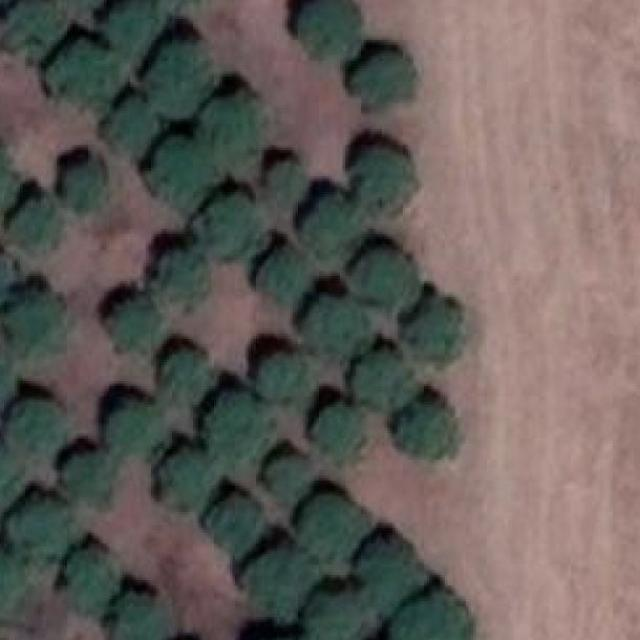Tree: (0, 284, 69, 363), (144, 24, 210, 106), (350, 526, 421, 601), (50, 45, 119, 117), (296, 491, 368, 557), (354, 43, 419, 114), (356, 344, 420, 414), (202, 389, 270, 453), (352, 148, 414, 218), (291, 0, 362, 60), (54, 546, 116, 614), (146, 148, 212, 211), (209, 100, 273, 164), (98, 394, 162, 458), (393, 392, 454, 458), (251, 250, 315, 312), (298, 302, 360, 366), (392, 585, 464, 640), (301, 585, 372, 640), (410, 295, 471, 358), (356, 244, 417, 306), (2, 0, 68, 55), (156, 452, 222, 507), (93, 0, 159, 51), (317, 402, 372, 463), (249, 548, 303, 610), (13, 496, 68, 556), (156, 344, 211, 404), (154, 250, 210, 308), (7, 400, 65, 456), (209, 496, 264, 554), (103, 587, 160, 640), (107, 292, 157, 352), (9, 200, 61, 254), (61, 159, 111, 215), (209, 198, 258, 255), (60, 444, 110, 499), (112, 98, 163, 151), (264, 447, 315, 500), (254, 352, 308, 402), (308, 204, 354, 252), (264, 160, 310, 204), (0, 533, 13, 609), (0, 242, 16, 299), (0, 142, 12, 205), (0, 441, 10, 512), (0, 349, 12, 401), (243, 632, 306, 640)
